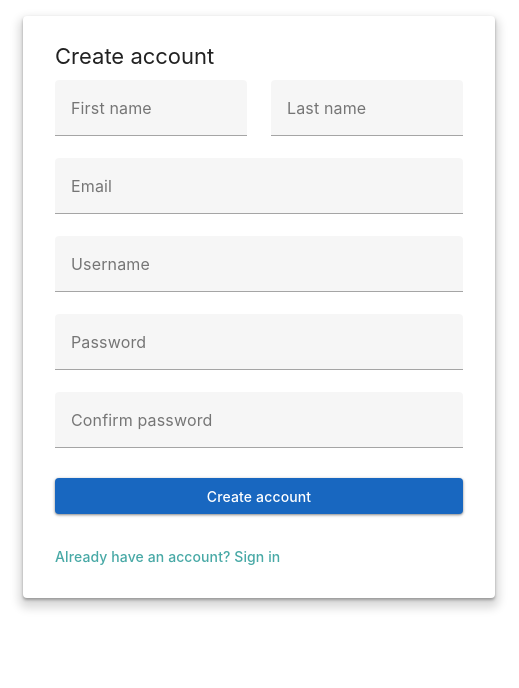
Test case: Feature 1 — Register view › US-1.1 — Registration › User registers with a duplicate username
The image size is (519, 688).
Type "Jane" into the field labelled "First name" at [151, 108], box [55, 80, 247, 136]
Type "Doe" into the field labelled "Last name" at [367, 108], box [271, 80, 463, 136]
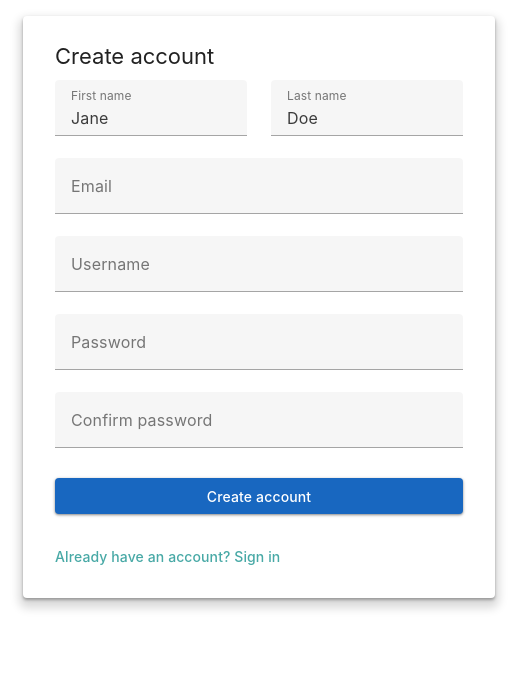
Type "jane@example.com" into the field labelled "Email" at [259, 186], box [55, 158, 463, 214]
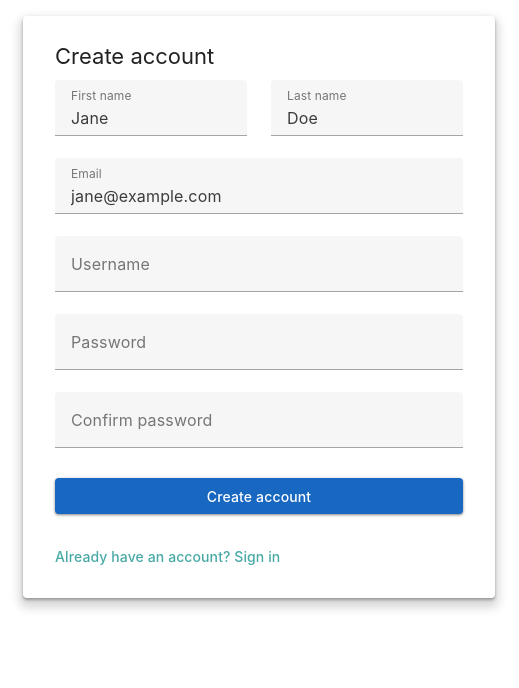
Type "jdoe" into the field named "username" at [259, 264], box [55, 236, 463, 292]
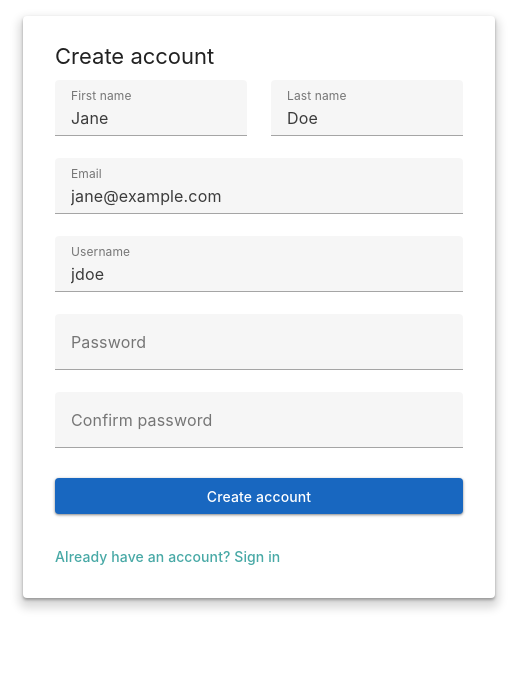
Type "password123" into the password field named "password" at [259, 342], box [55, 314, 463, 370]
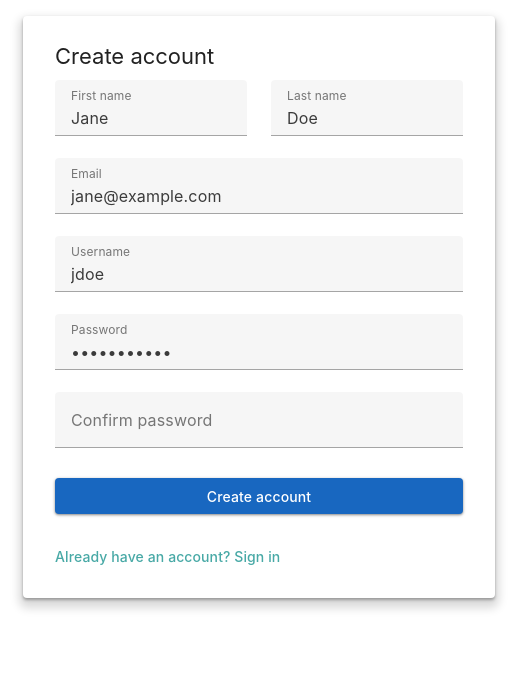
Type "password123" into the password field labelled "Confirm password" at [259, 420], box [55, 392, 463, 448]
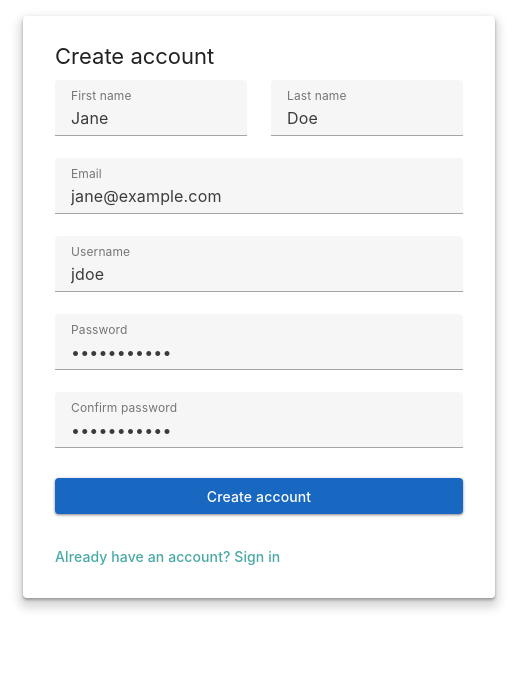
Submit the form, box [55, 80, 463, 514]
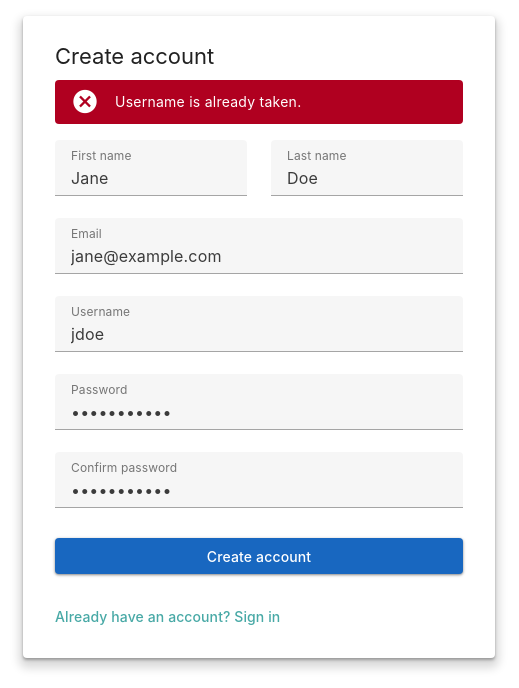
Now the message "Username is already taken." is shown, box [55, 80, 463, 124]
